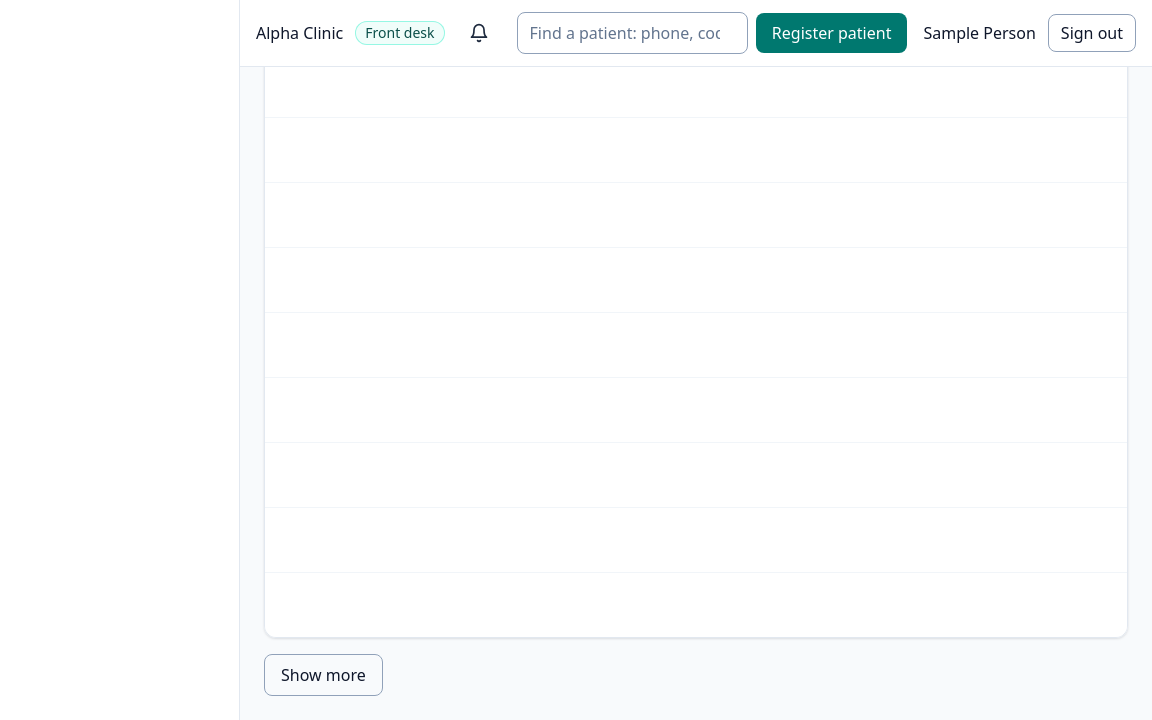
it: pending follow-ups (FR-REM-07, R17; M5-P6 decision 4A) › Show more loads the next page when a page was full
(page scrolled)
Step 1. Click the button "Show more" → (323, 675), box 264,654 -> 383,696
(page scrolled)
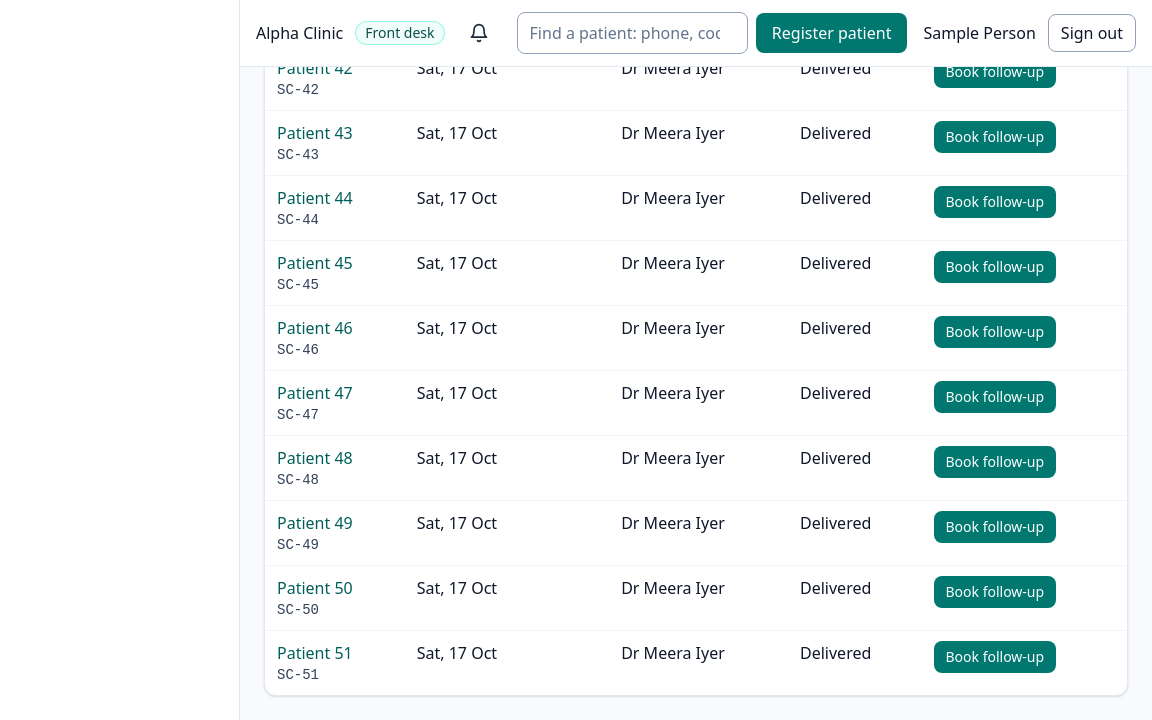
Now the row "Patient 51" is shown, box 265,630 -> 1127,695
Now the button "Show more" is gone
